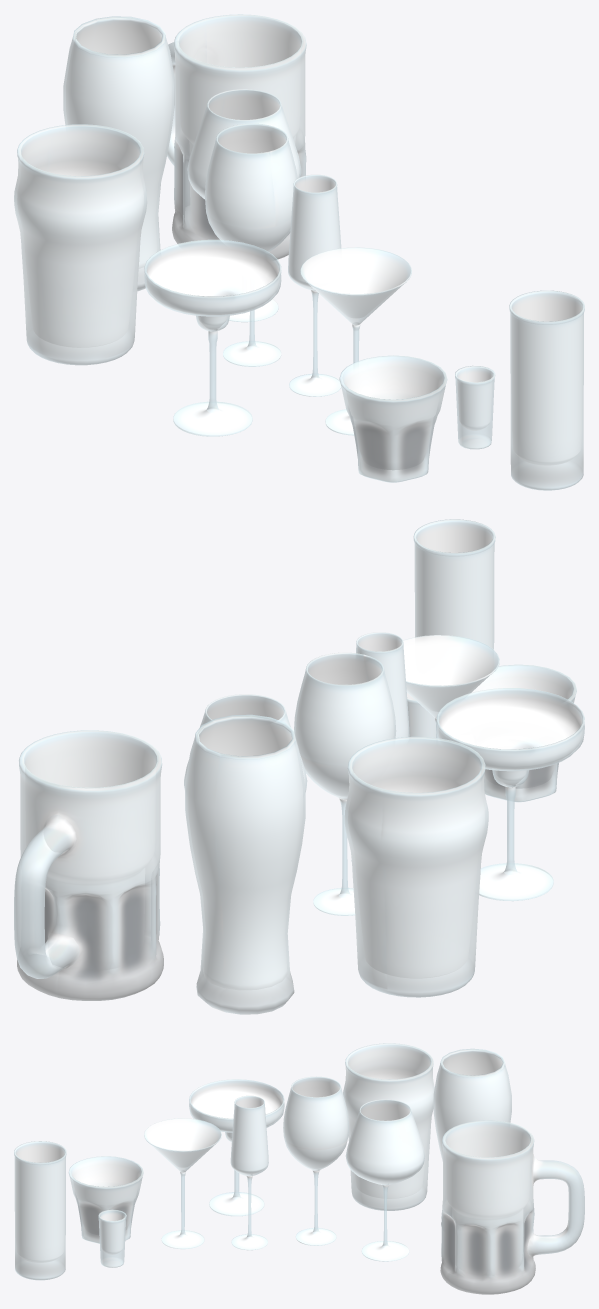
Rendered from bar_glasses.glb.
3 renders of one model, top to bottom at view 1: azimuth 30°, elevation 25°; view 2: azimuth 150°, elevation 25°; view 3: azimuth 270°, elevation 25°, orthographic. The views are drawn at different scales.
Parts seen in each view (by area): view 1: pint_low, beer_mug_low, pilsner_low, Highball_low, marghareta_low, white_wine_low, rocks_low, cocktail_low, champange_flute_low, red_wine_low, shot_low; view 2: beer_mug_low, pint_low, pilsner_low, marghareta_low, white_wine_low, Highball_low, cocktail_low, rocks_low, champange_flute_low, red_wine_low, shot_low; view 3: beer_mug_low, pint_low, Highball_low, red_wine_low, white_wine_low, pilsner_low, marghareta_low, rocks_low, cocktail_low, champange_flute_low, shot_low.
Part boxes in pixels (x1,y1,x2,y2): pint_low: (14, 124, 147, 365); beer_mug_low: (167, 14, 306, 259); pilsner_low: (63, 16, 174, 291); Highball_low: (509, 290, 584, 490); marghareta_low: (144, 239, 281, 436); white_wine_low: (205, 123, 297, 366); rocks_low: (339, 355, 447, 482); cocktail_low: (300, 247, 411, 435); champange_flute_low: (288, 174, 341, 396); red_wine_low: (187, 89, 301, 322); shot_low: (455, 365, 495, 449); beer_mug_low: (14, 730, 163, 1000); pint_low: (344, 736, 488, 997); pilsner_low: (185, 714, 305, 1014); marghareta_low: (436, 688, 584, 901); white_wine_low: (294, 652, 396, 915); Highball_low: (413, 519, 495, 653); cocktail_low: (402, 635, 499, 737); rocks_low: (468, 664, 576, 802); champange_flute_low: (351, 632, 409, 860); red_wine_low: (184, 694, 307, 791); shot_low: (407, 692, 436, 741); beer_mug_low: (440, 1120, 584, 1294); pint_low: (343, 1043, 434, 1210); Highball_low: (14, 1141, 66, 1280); red_wine_low: (345, 1099, 425, 1261); white_wine_low: (283, 1076, 349, 1245); pilsner_low: (433, 1048, 511, 1226); marghareta_low: (189, 1079, 284, 1216); rocks_low: (68, 1156, 143, 1243); cocktail_low: (144, 1118, 221, 1249); champange_flute_low: (230, 1095, 268, 1250); shot_low: (98, 1209, 126, 1267).
Bounding box in the file's own units: 0.2276 × 0.1527 × 0.4652.
Materials: 1 (1 with a texture image).
